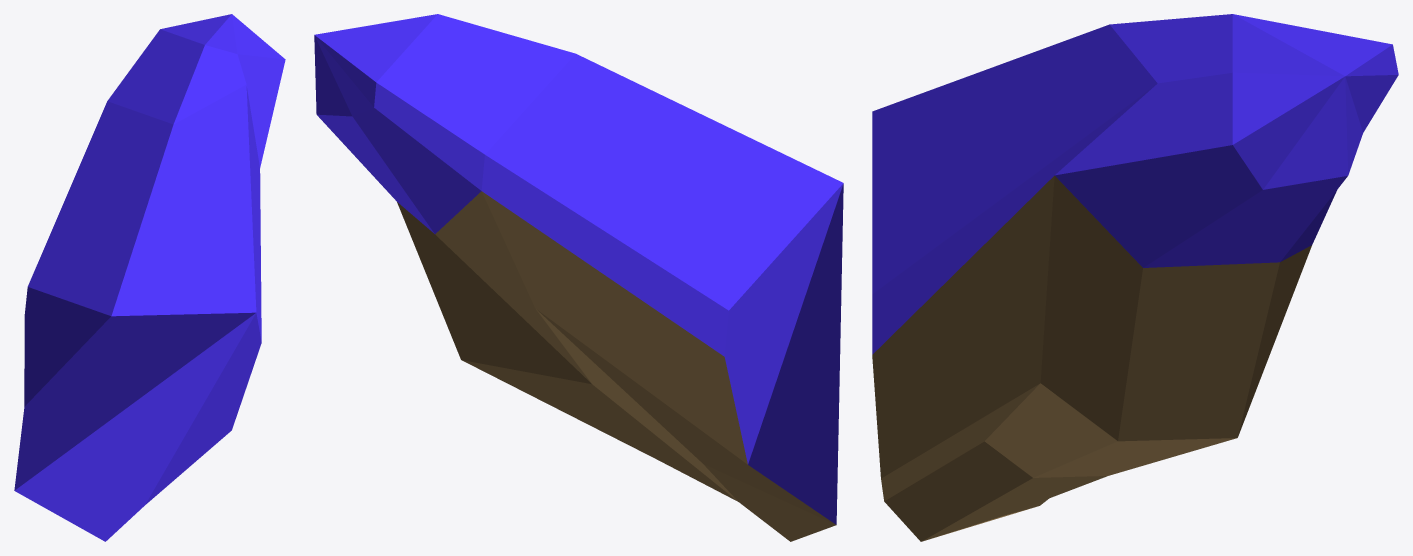
The model's file is cristal_broken4.fbx.
3 renders of one model, left to right at view 1: azimuth 30°, elevation 25°; view 2: azimuth 150°, elevation 25°; view 3: azimuth 270°, elevation 25°, orthographic. The views are drawn at different scales.
Visible parts, largest first — view 1: Object030; view 2: Object030; view 3: Object030.
Part boxes in pixels (x1,y1,x2,y2): Object030: (14, 14, 285, 541); Object030: (314, 14, 843, 541); Object030: (872, 14, 1398, 541).
Size of the model in its own units: 8.07 by 9.29 by 6.42.
